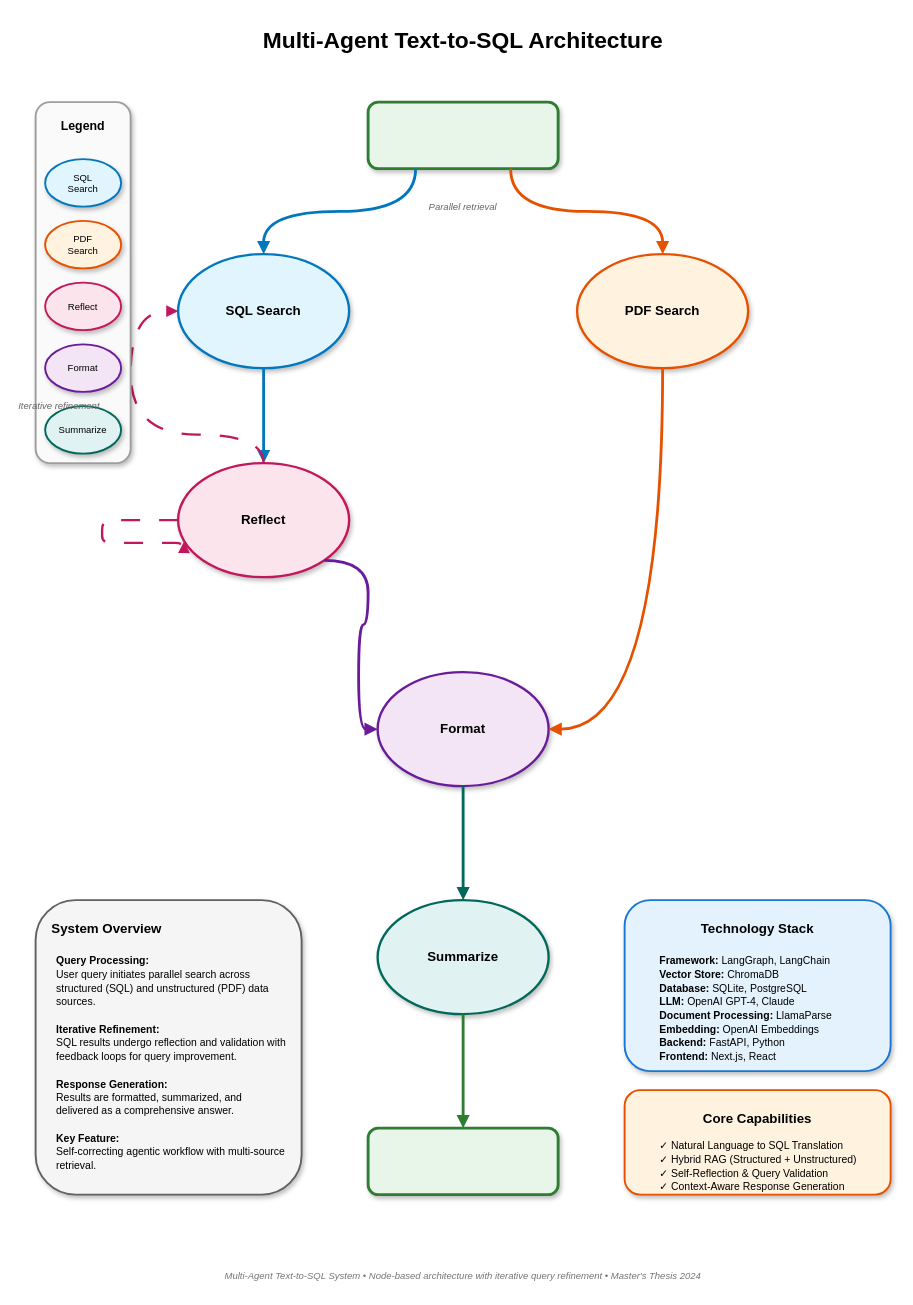
Some shapes in this 913 by 1305 pixel diagram are drawn without their labels. The centre of each missing label's shape, as x and y in pixels:
ANSWER: point (463, 1162)
QUERY: point (463, 136)
